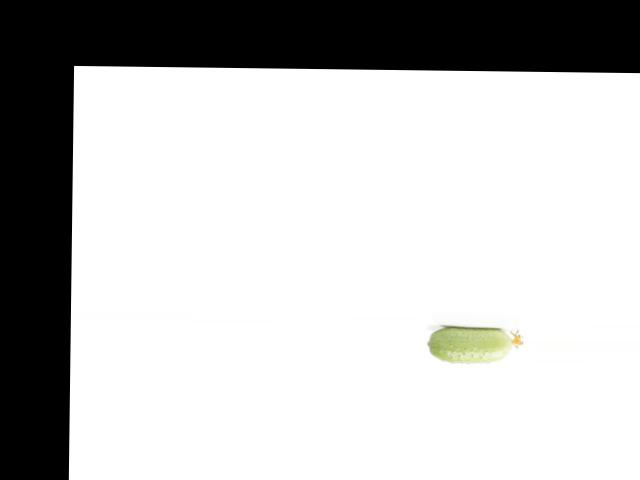cucumber: (426, 325, 522, 363)
